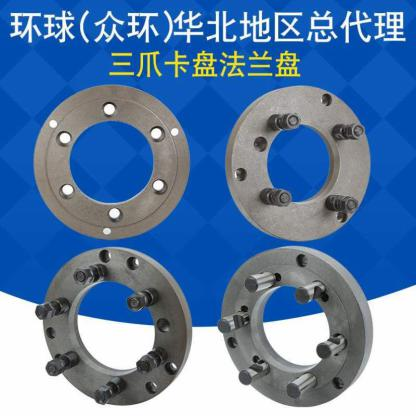FOD: (214, 245, 380, 406), (30, 82, 193, 240), (37, 246, 194, 407), (222, 83, 372, 243)
